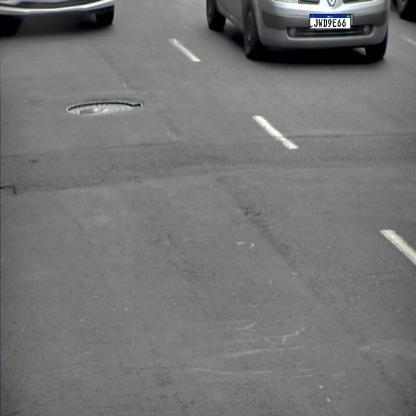PlacaM: (309, 14, 351, 29)
